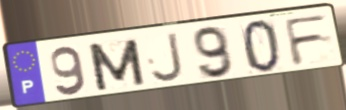0: (240, 18, 283, 74)
9: (191, 25, 236, 79), (48, 45, 88, 99)
F: (282, 12, 331, 68)
J: (149, 30, 186, 84)
M: (85, 37, 148, 93)
